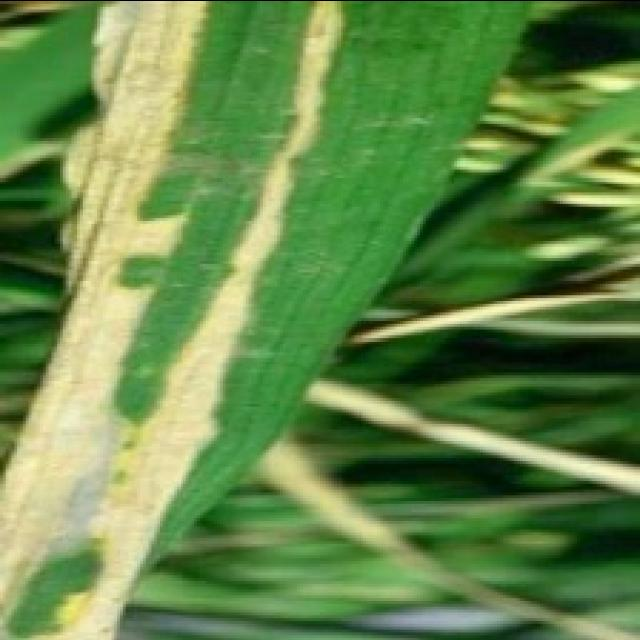Unhealthy: (0, 0, 344, 640), (262, 432, 640, 640), (306, 380, 640, 500), (348, 294, 640, 346), (540, 131, 625, 176), (532, 233, 618, 261), (551, 190, 640, 209), (468, 135, 535, 152), (576, 166, 638, 183), (448, 157, 506, 172)
